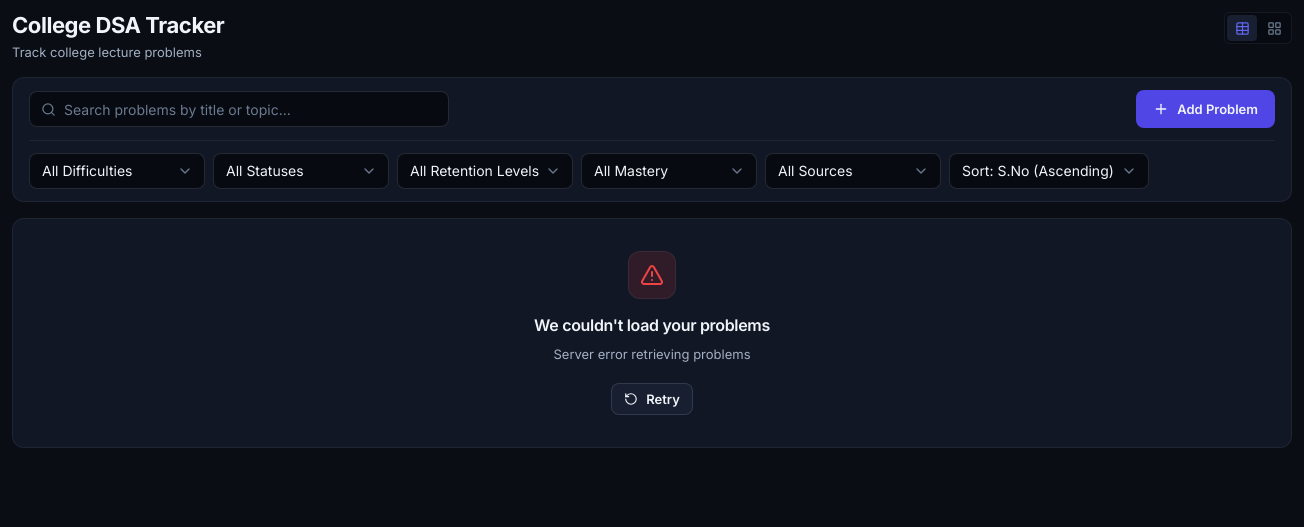
Test: Phase 6 — Tracker data states › refetches successfully when Retry is pressed and shows the recovered rows
What coordinates should you click on to do the following:
click the button "Retry"
I would click on:
 (652, 400)
Its box is x1=611 y1=384 x2=693 y2=416.
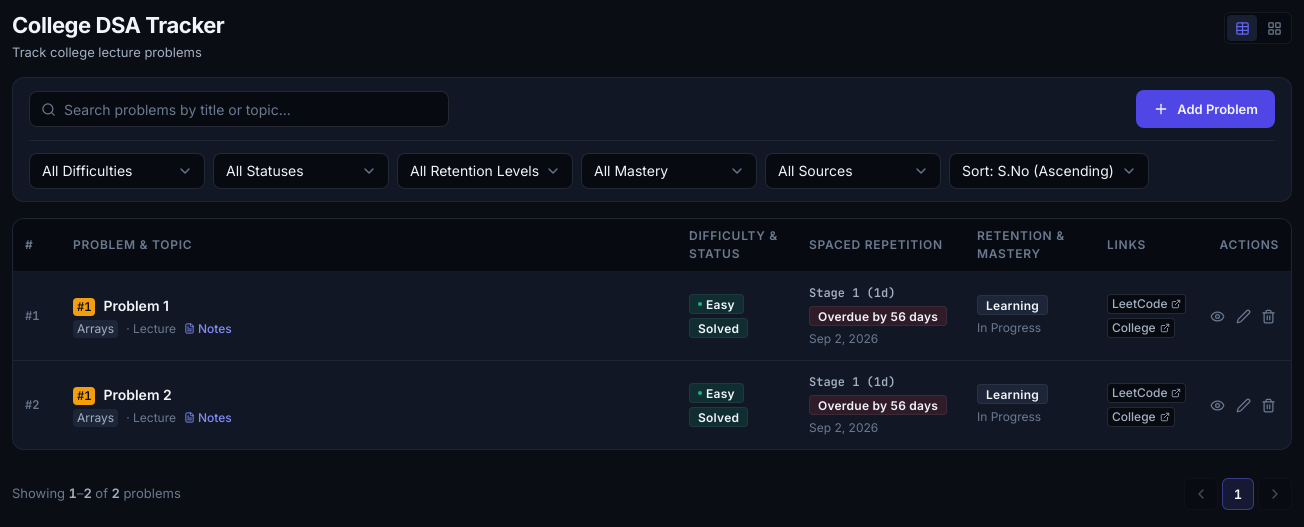
Result: the table is shown at x1=13 y1=219 x2=1291 y2=449
Result: the message "We couldn't load your problems Server error retrieving problems Retry" is gone
